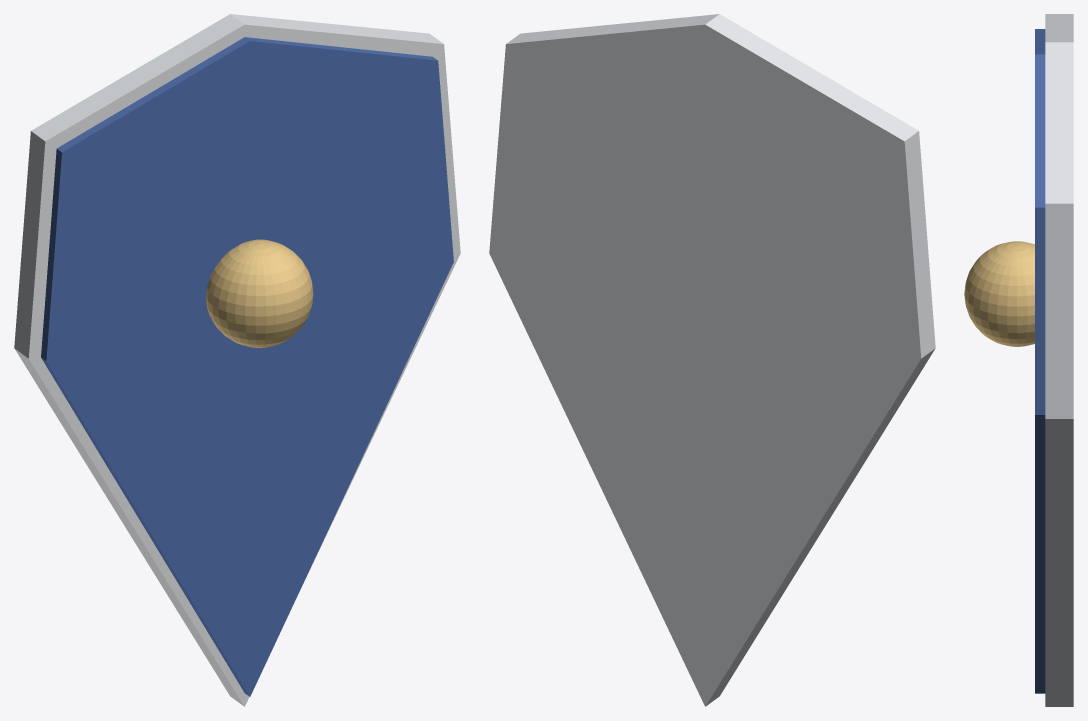
The model's file is kite_shield.glb.
3 views of the same model, side by side, from view 1: azimuth 30°, elevation 25°; view 2: azimuth 150°, elevation 25°; view 3: azimuth 270°, elevation 25° (orthographic). The views are drawn at different scales.
Parts seen in each view (by area): view 1: Sphere; view 2: Sphere; view 3: Sphere.
Part boxes in pixels (x1=…): Sphere: x1=14, y1=14, x2=460, y2=706; Sphere: x1=489, y1=14, x2=935, y2=706; Sphere: x1=964, y1=14, x2=1073, y2=706.
Bounding box in the file's own units: 0.5512 × 0.832 × 0.124.
